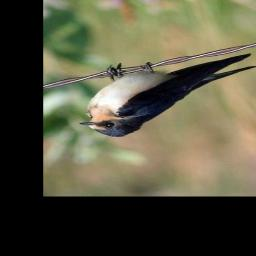Swallow: (77, 49, 256, 139)
